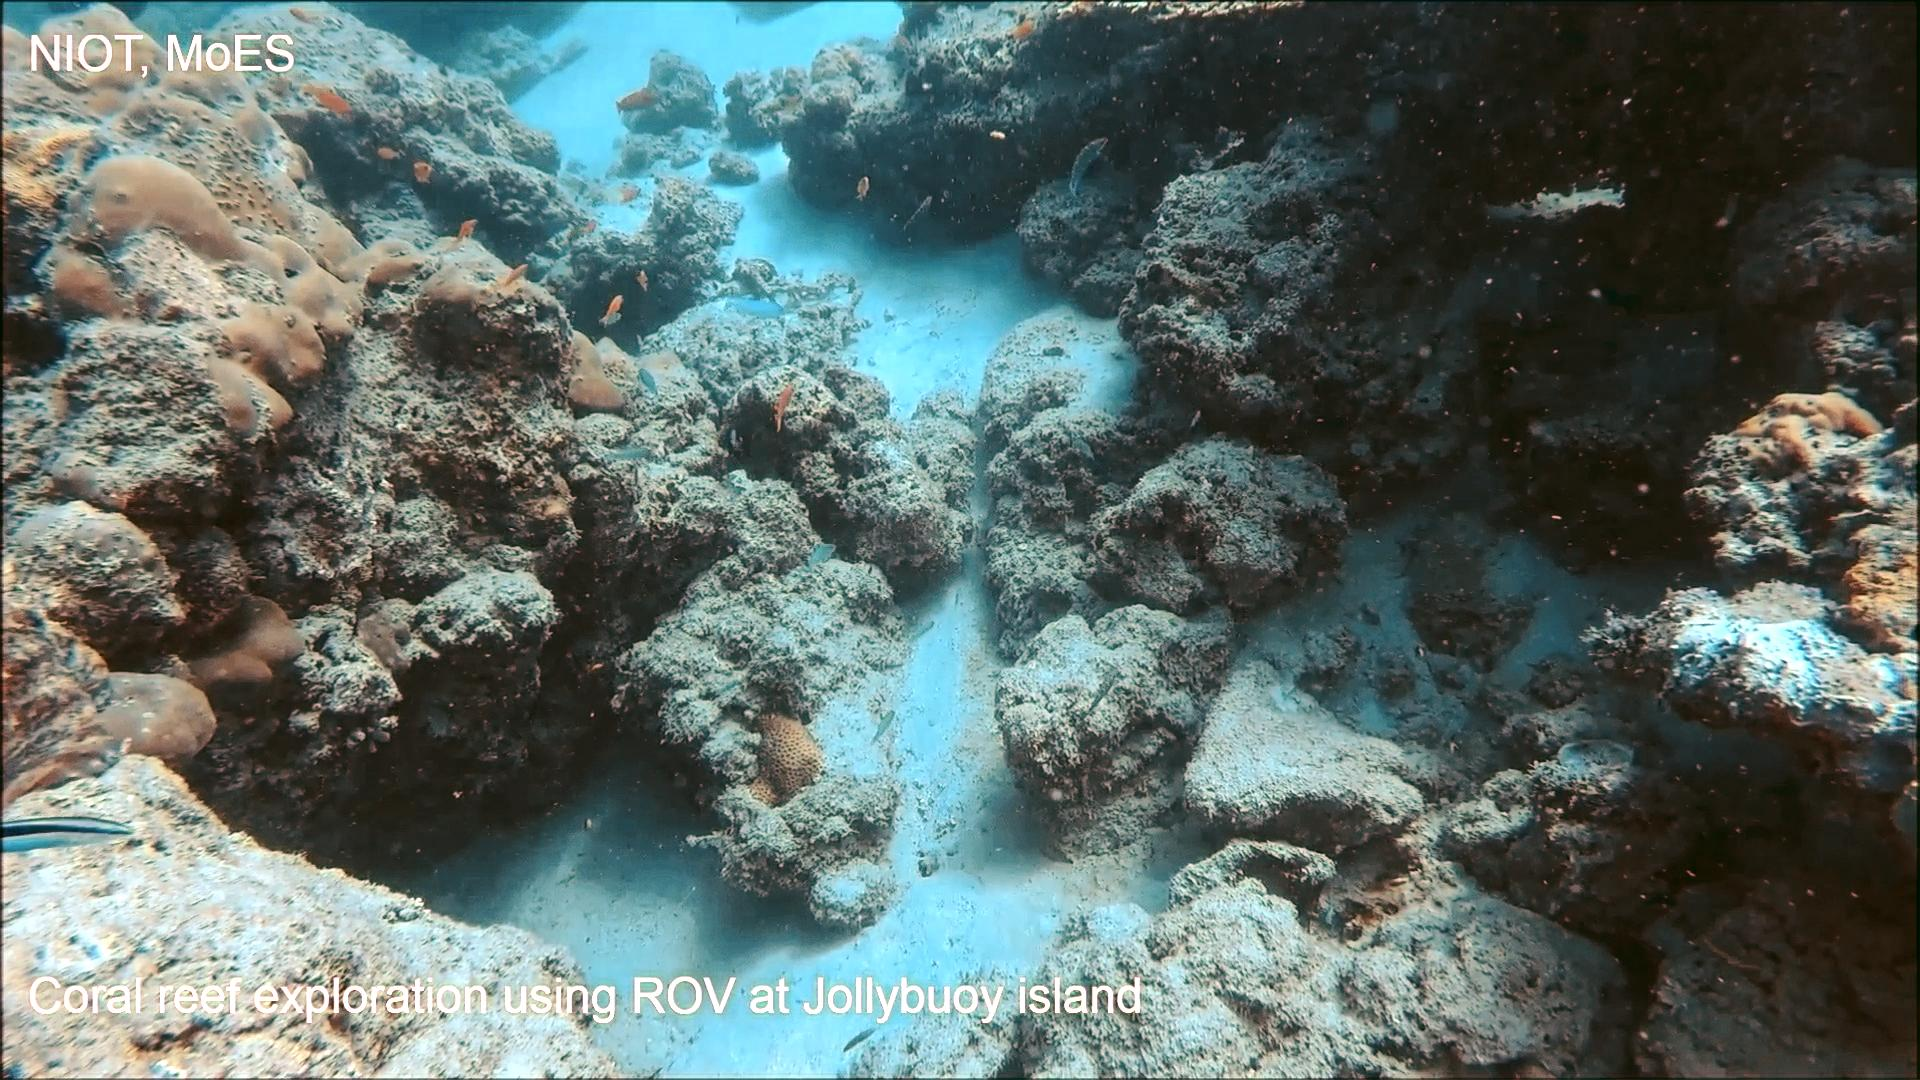Porites-Porites pukoensis: (0, 0, 430, 454)
